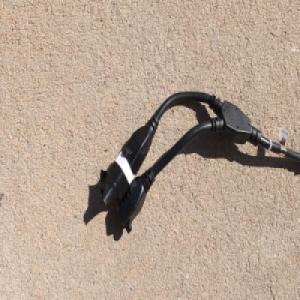Wire: (98, 88, 300, 235)
